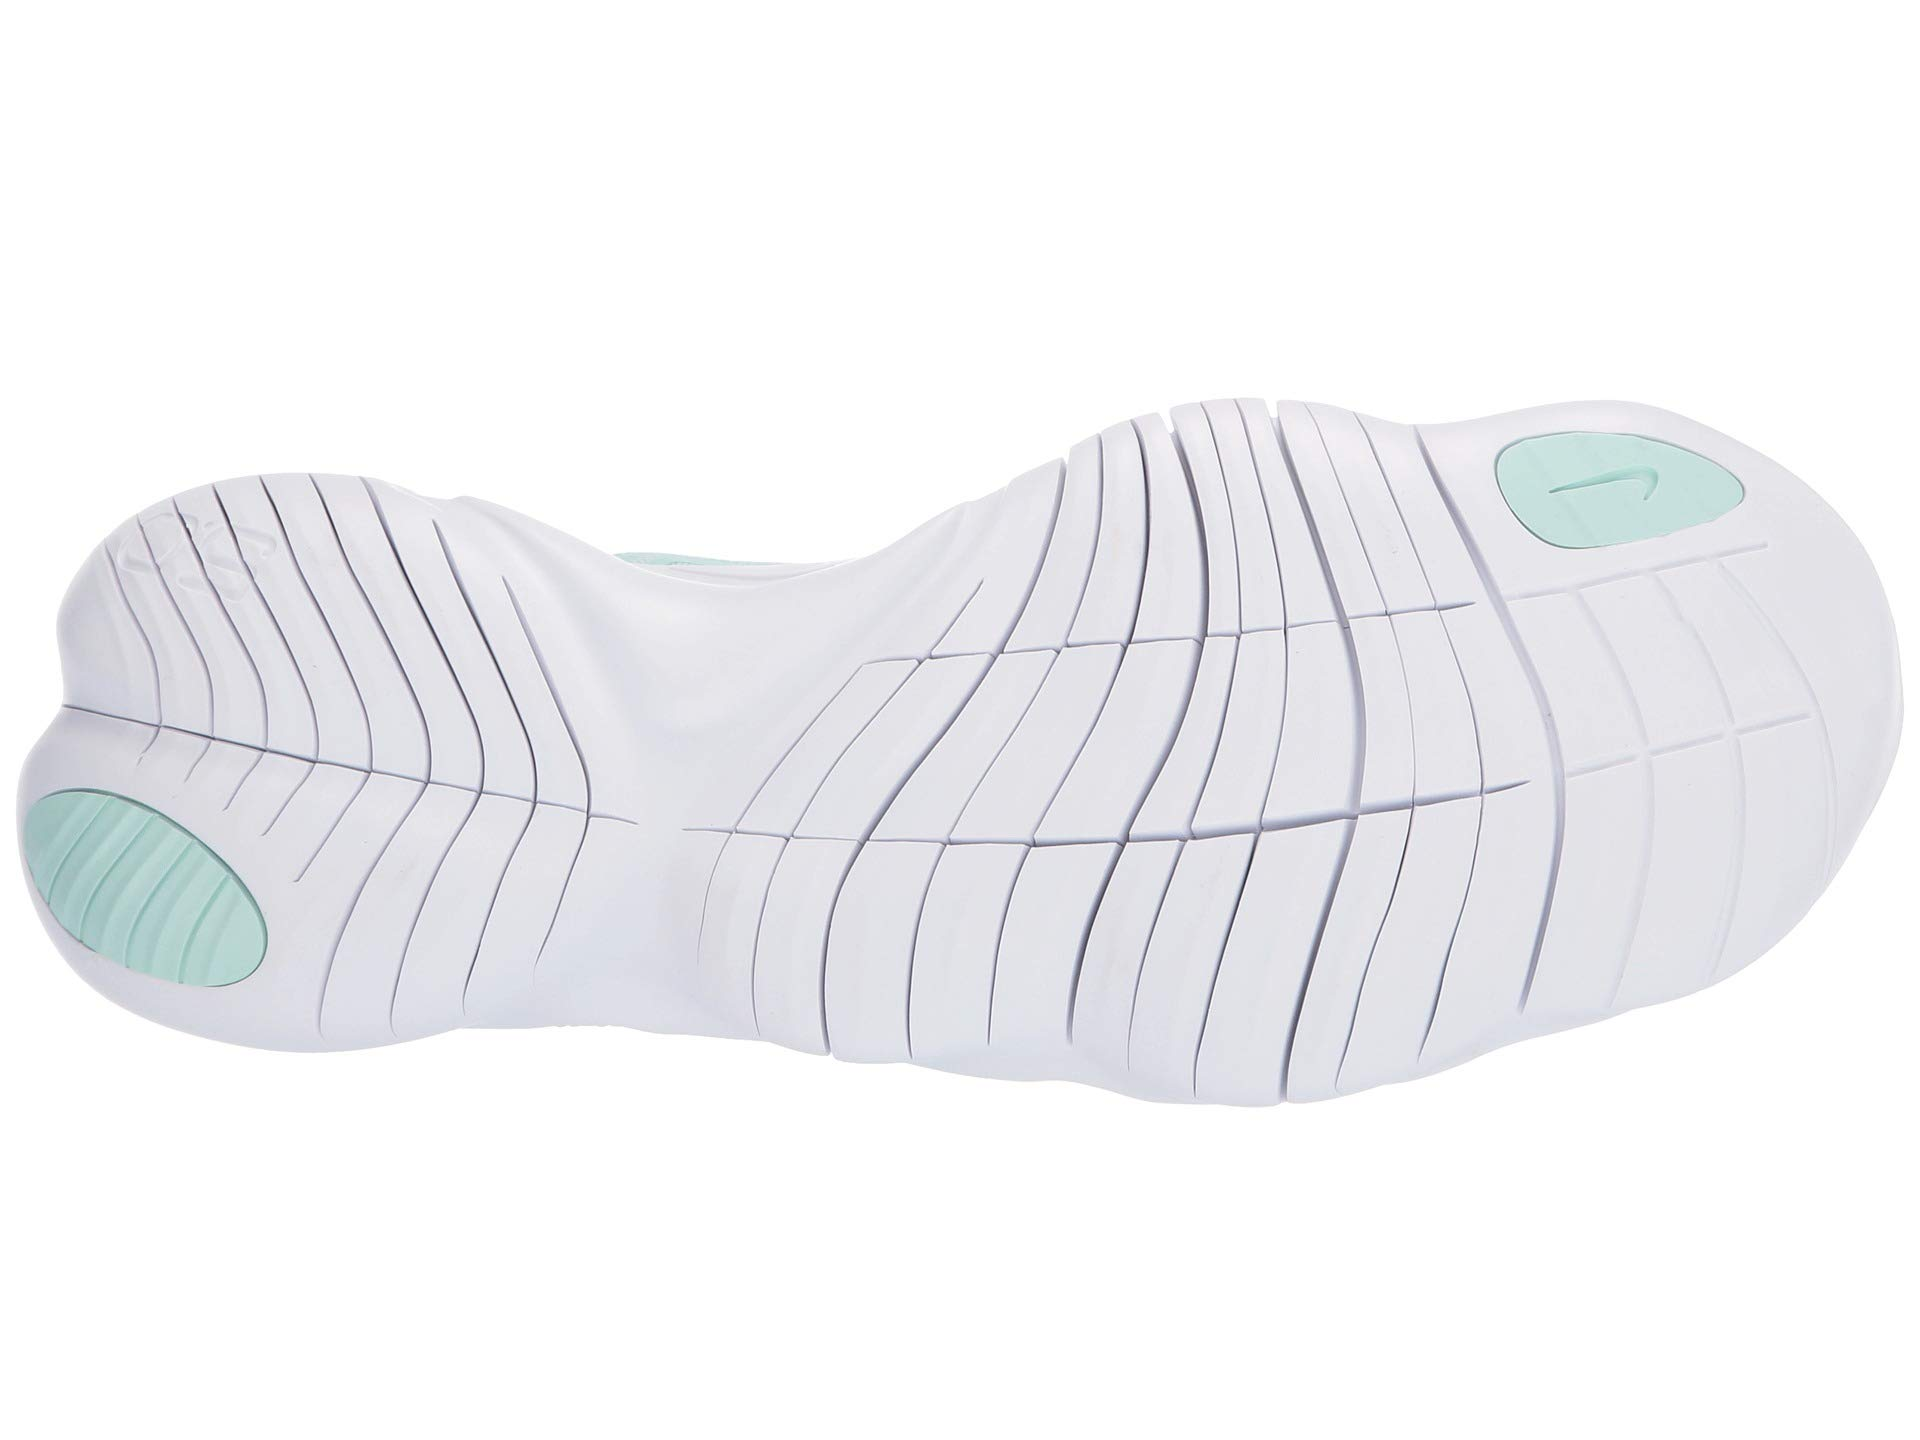chevron: (184, 650, 499, 932)
quad: (892, 632, 1287, 1060)
